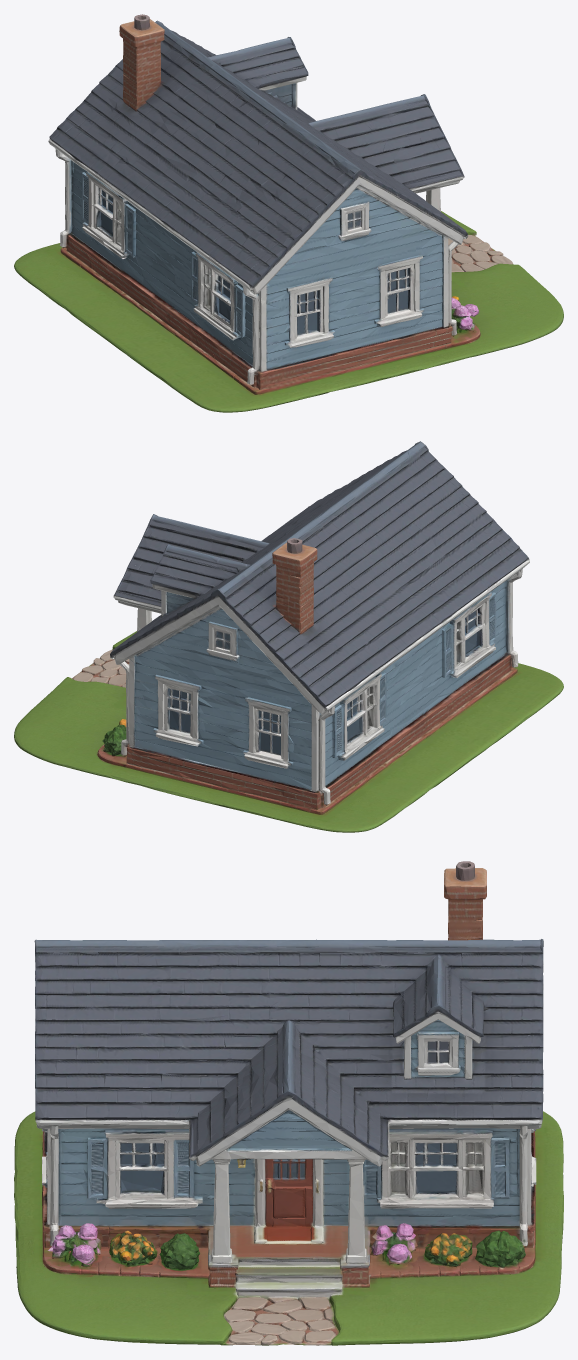
File: house_j.glb
3 views of the same model, one above another, from view 1: azimuth 30°, elevation 25°; view 2: azimuth 150°, elevation 25°; view 3: azimuth 270°, elevation 25° (orthographic). The views are drawn at different scales.
Visible parts, largest first — view 1: tripo_node_16870ef7-508c-4ca1-843c-82caaedcfd8a; view 2: tripo_node_16870ef7-508c-4ca1-843c-82caaedcfd8a; view 3: tripo_node_16870ef7-508c-4ca1-843c-82caaedcfd8a.
Boxes of the visible parts, x1,y1,x2,y2 form: tripo_node_16870ef7-508c-4ca1-843c-82caaedcfd8a: (14, 14, 563, 412); tripo_node_16870ef7-508c-4ca1-843c-82caaedcfd8a: (14, 441, 563, 832); tripo_node_16870ef7-508c-4ca1-843c-82caaedcfd8a: (14, 861, 563, 1345).
Size of the model in its own units: 1 by 0.6108 by 0.9816.
Materials: 1 (1 with a texture image).
